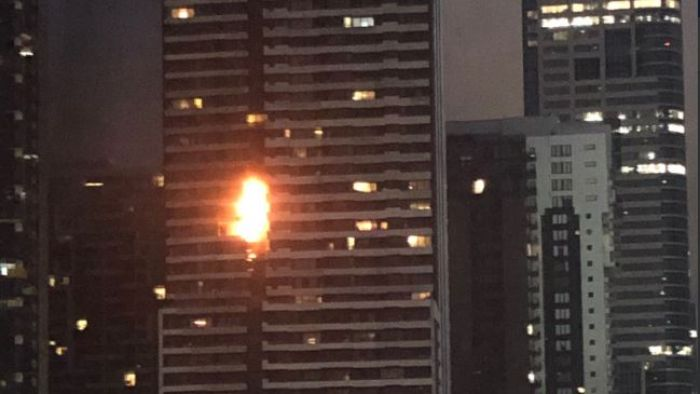Fire: (220, 174, 272, 245)
